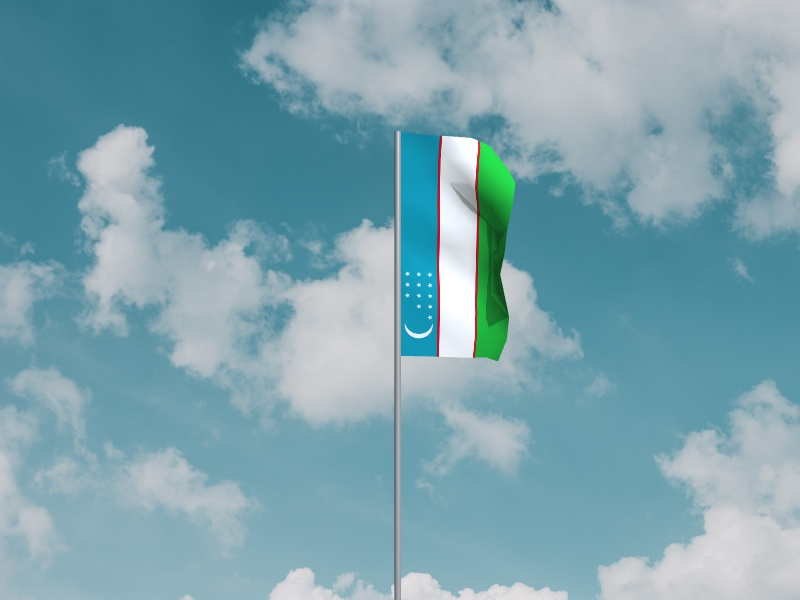uz: (401, 133, 516, 362)
